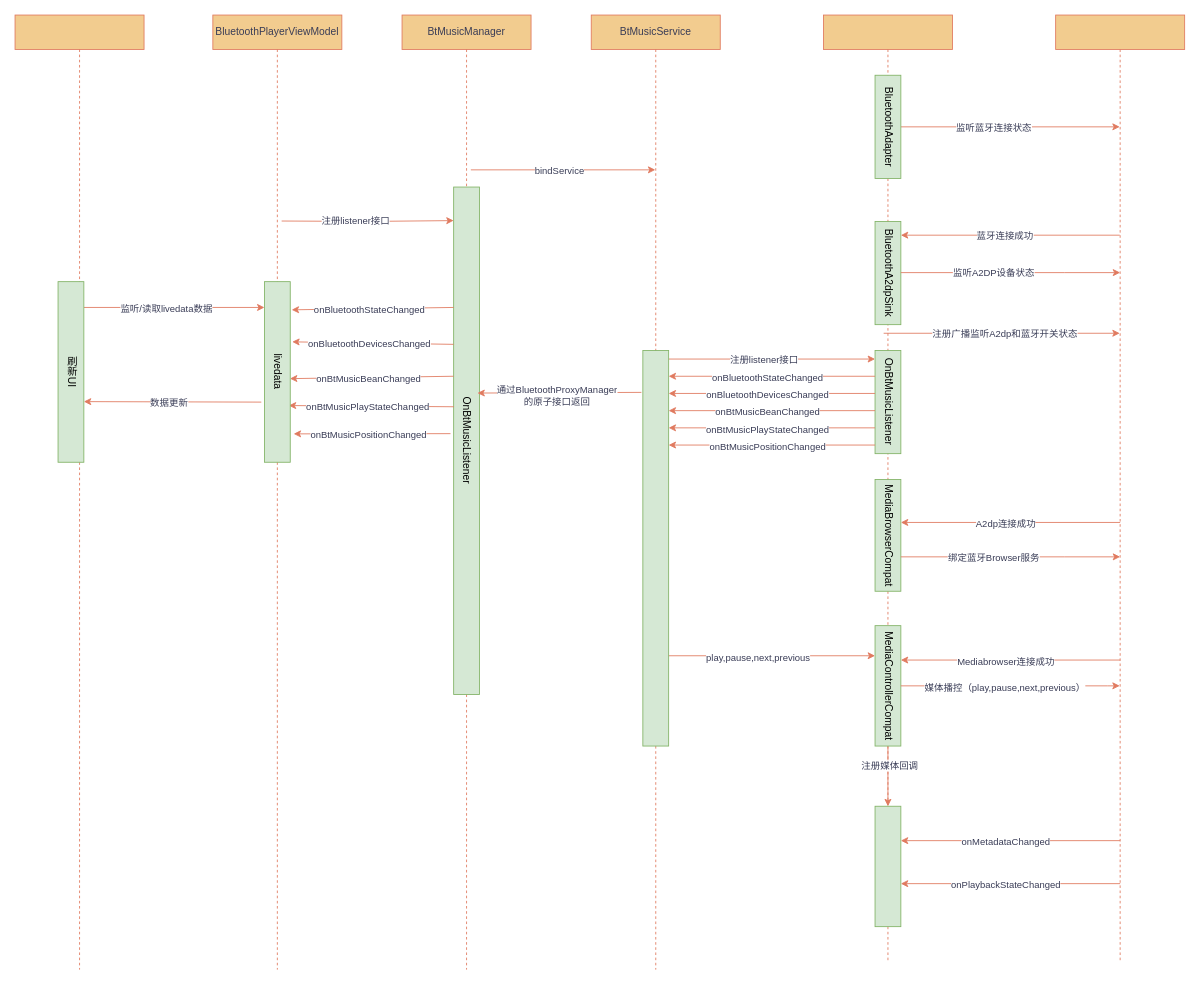
Some shapes in this 1200 by 985 pixel diagram are drawn without their labels. The box of each missing label's shape, as (x1, y1, x2, y2) in pixels:
BluetoothPlayerFragment: (14, 14, 144, 970)
BluetoothRemote: (642, 350, 669, 746)
BlueToothService: (1055, 14, 1185, 961)
BtMusicHelper: (823, 14, 952, 961)
MediaControllerCallback: (874, 805, 901, 927)
